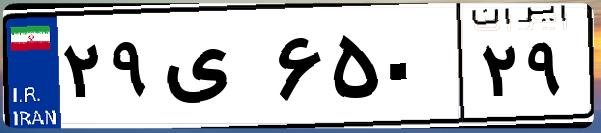0: (385, 28, 445, 110)
2: (57, 26, 110, 100), (475, 38, 525, 113)
5: (330, 28, 385, 110)
6: (270, 28, 330, 110)
9: (525, 38, 570, 115), (110, 28, 158, 98)
ی: (158, 20, 270, 120)
